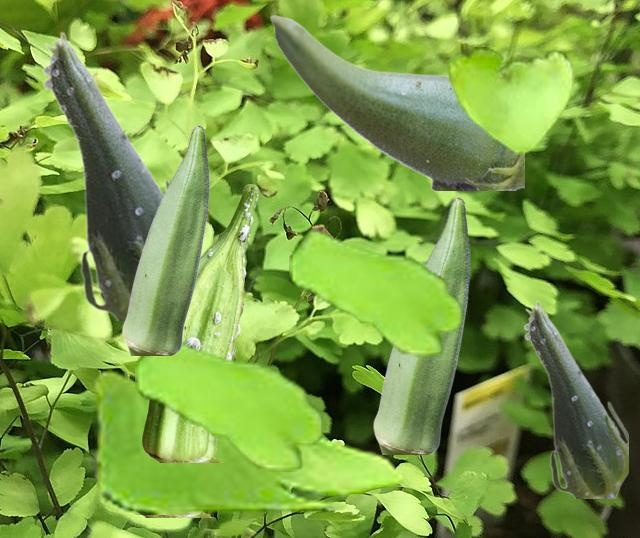okra: (269, 14, 523, 189), (41, 31, 169, 319), (142, 184, 258, 461), (139, 227, 250, 516), (373, 197, 469, 453), (523, 300, 627, 497), (122, 125, 208, 354)
